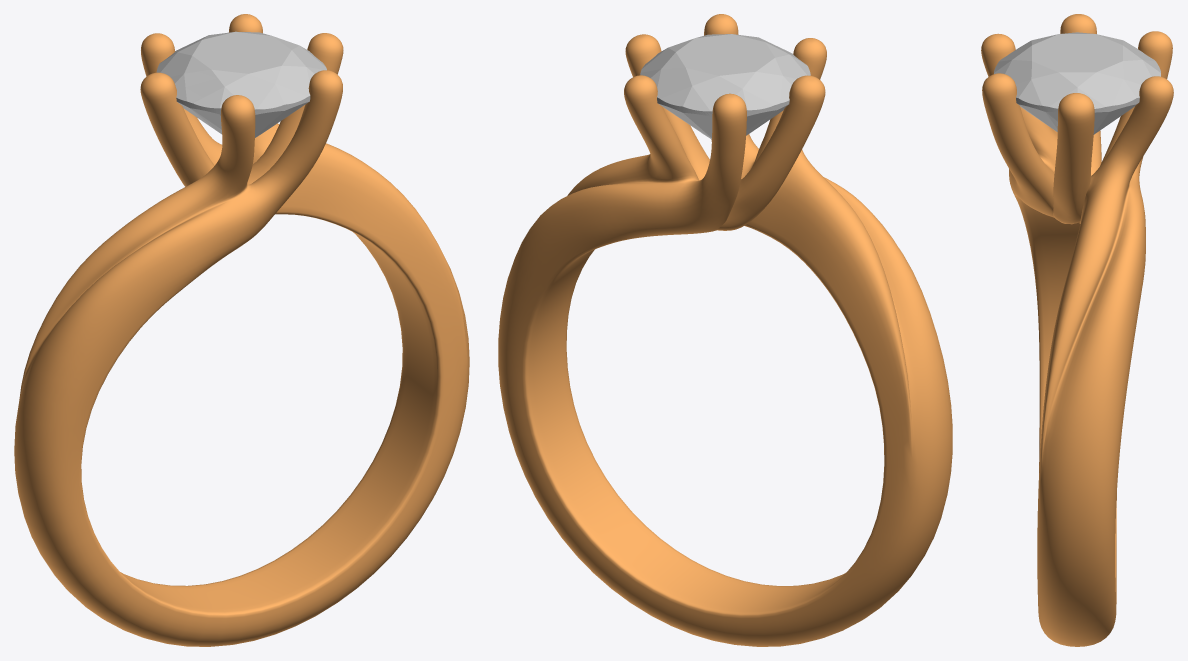
File: jiezhi.glb
3 views of the same model, side by side, from view 1: azimuth 30°, elevation 25°; view 2: azimuth 150°, elevation 25°; view 3: azimuth 270°, elevation 25° (orthographic). The views are drawn at different scales.
Visible parts, largest first — view 1: zhihuan, zuanshi; view 2: zhihuan, zuanshi; view 3: zhihuan, zuanshi.
Boxes of the visible parts, x1,y1,x2,y2 form: zhihuan: (14, 14, 469, 646); zuanshi: (156, 31, 326, 137); zhihuan: (498, 14, 952, 646); zuanshi: (640, 34, 810, 139); zhihuan: (981, 14, 1173, 646); zuanshi: (994, 32, 1160, 134).
Size of the model in its own units: 0.0188 by 0.0237 by 0.00726.
Materials: 2 (1 with a texture image).
